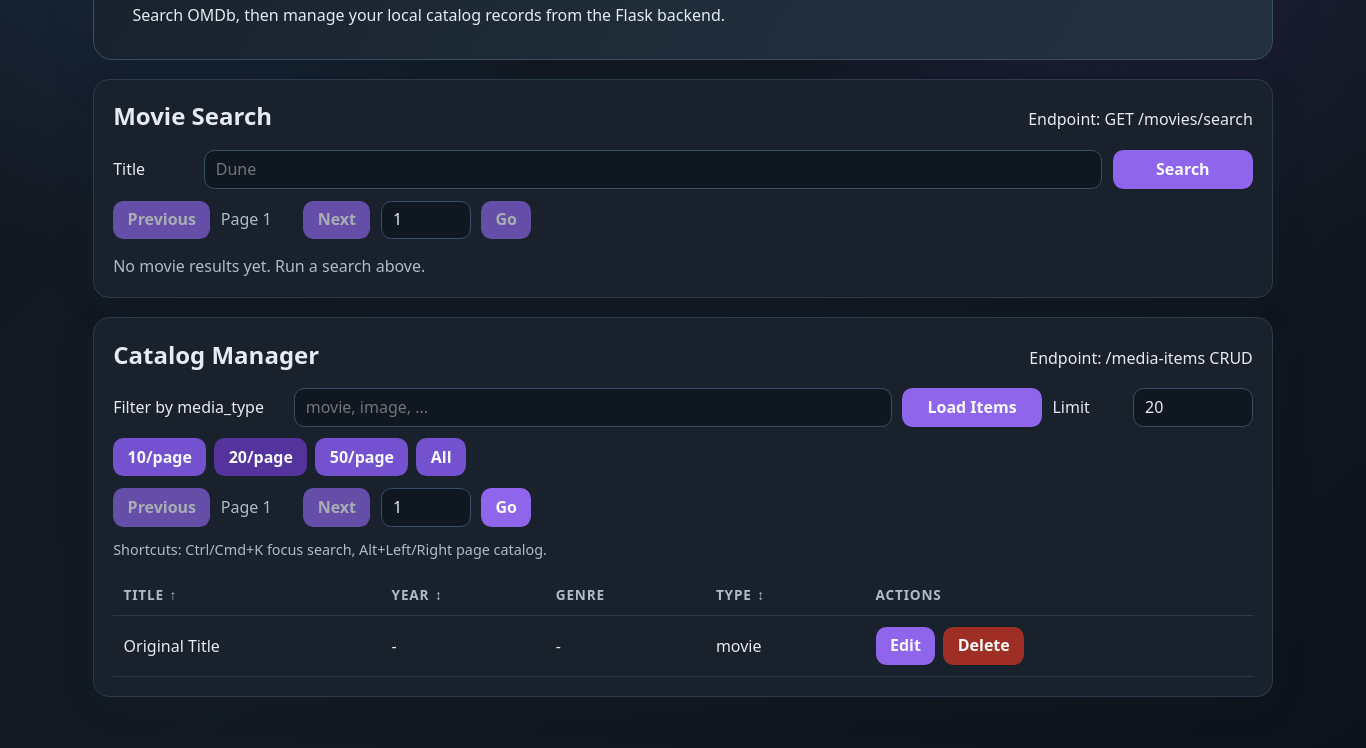
Test: App › rolls back optimistic delete when API fails
The width and height of the screenshot is (1366, 748).
(page scrolled)
Expected: the text "Original Title" is shown, [113, 616, 381, 676]
Click the button "Delete" at (984, 646), box [943, 627, 1024, 665]
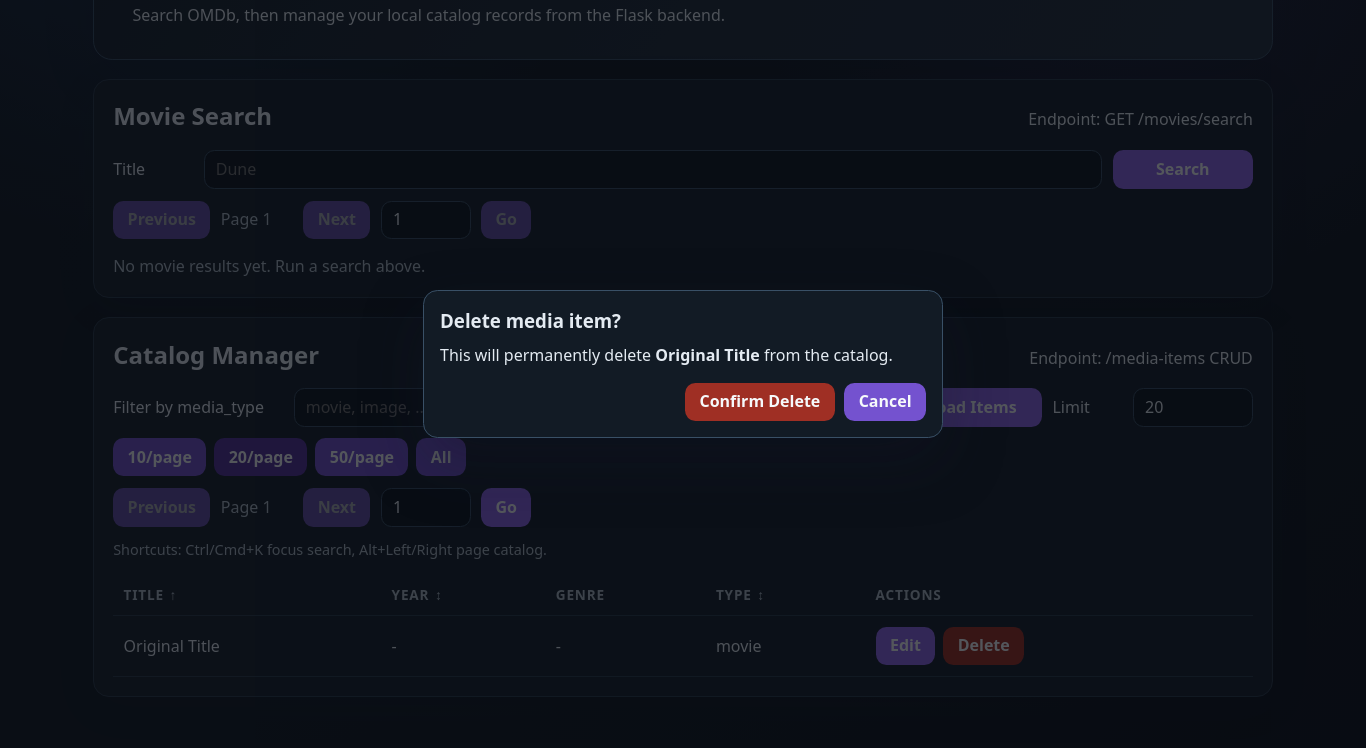
Click the button "Confirm Delete" at (760, 402), box [685, 383, 835, 421]
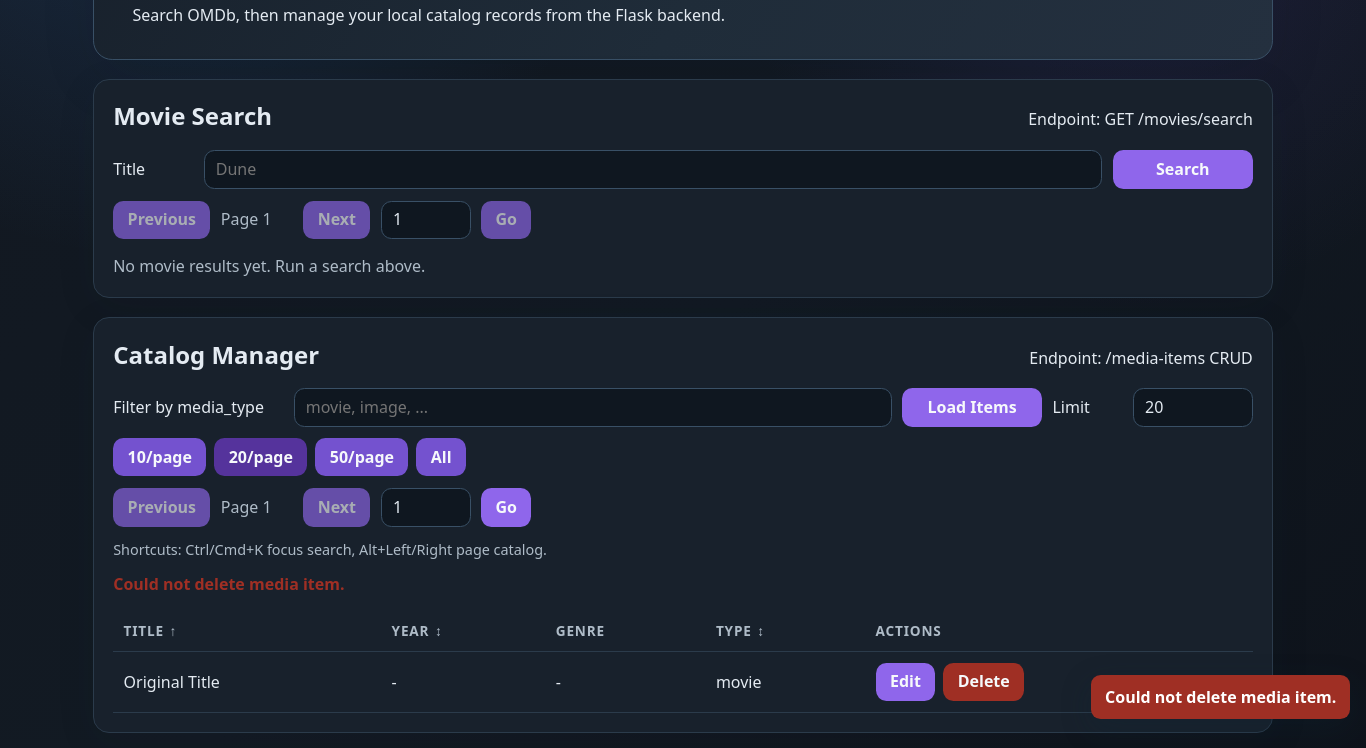
Expected: the text "Original Title" is shown, [113, 652, 381, 712]
Expected: the text "Could not delete media item." below "Filter by media_type" is shown, [113, 573, 344, 595]
